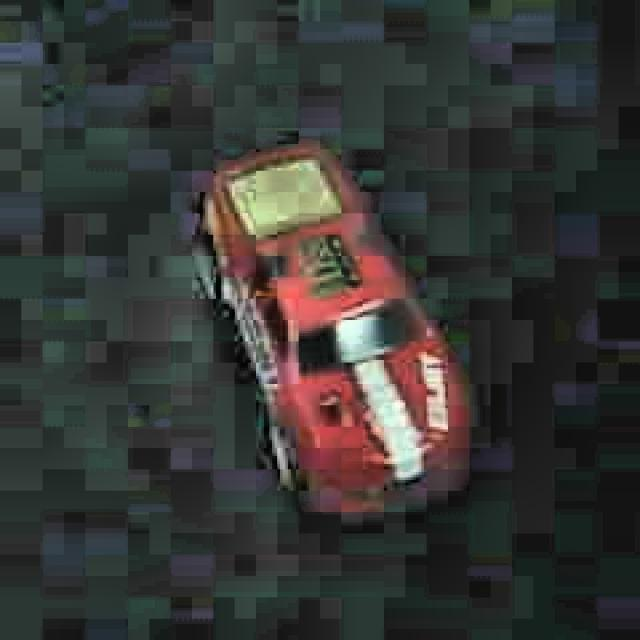car: (195, 140, 473, 516)
